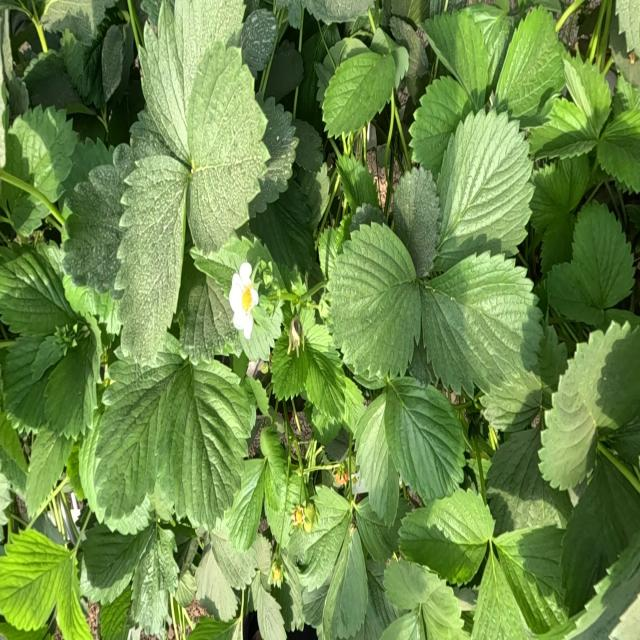Flowers: (229, 262, 259, 338)
Leaves: (90, 335, 185, 525), (149, 357, 252, 529), (422, 250, 540, 396), (140, 0, 243, 162), (542, 324, 639, 491), (188, 45, 267, 250), (116, 148, 185, 368), (328, 224, 419, 379), (438, 111, 531, 250), (561, 456, 639, 614), (63, 143, 137, 292), (385, 376, 465, 503), (481, 326, 567, 432), (486, 428, 572, 534), (399, 488, 493, 582), (495, 8, 567, 119), (423, 6, 504, 104), (495, 525, 564, 632), (1, 529, 70, 631), (321, 45, 395, 136), (573, 201, 634, 310), (1, 245, 74, 336), (8, 106, 77, 200), (291, 487, 352, 593), (1, 335, 69, 428), (42, 325, 98, 437), (409, 76, 472, 175), (250, 181, 316, 274), (179, 258, 235, 360), (356, 393, 399, 523), (471, 543, 528, 639), (252, 98, 299, 212), (132, 521, 178, 635), (392, 168, 439, 276), (323, 529, 367, 639), (301, 311, 345, 419), (83, 519, 147, 590), (63, 18, 109, 108), (224, 459, 268, 553), (529, 99, 596, 159), (25, 429, 70, 518), (563, 56, 611, 139), (597, 101, 639, 192), (530, 163, 584, 233), (547, 261, 605, 325), (62, 274, 120, 334), (355, 558, 396, 639), (40, 1, 115, 45), (296, 31, 327, 134), (195, 548, 237, 621), (210, 519, 255, 587), (24, 56, 81, 109), (56, 559, 94, 638), (241, 9, 286, 72), (260, 425, 290, 519), (390, 17, 427, 87), (356, 498, 397, 561), (271, 330, 307, 400), (384, 555, 428, 611), (421, 583, 465, 639), (251, 572, 287, 639), (336, 155, 379, 211), (265, 40, 303, 102), (101, 25, 128, 103), (541, 213, 574, 276), (318, 215, 350, 279), (301, 163, 330, 228), (281, 551, 303, 629), (303, 0, 371, 23), (293, 119, 323, 171), (339, 378, 366, 435), (302, 574, 331, 627), (380, 607, 426, 639), (616, 0, 639, 57), (312, 409, 342, 446), (43, 245, 62, 272), (325, 29, 339, 43)
Strawberries: (269, 562, 282, 587), (304, 505, 315, 531)
